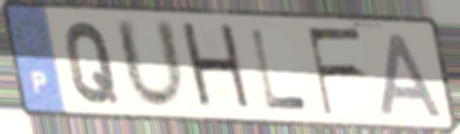A: (378, 31, 448, 120)
F: (304, 26, 365, 119)
H: (177, 19, 257, 116)
L: (247, 27, 311, 112)
Q: (62, 20, 122, 107)
U: (111, 15, 190, 115)
